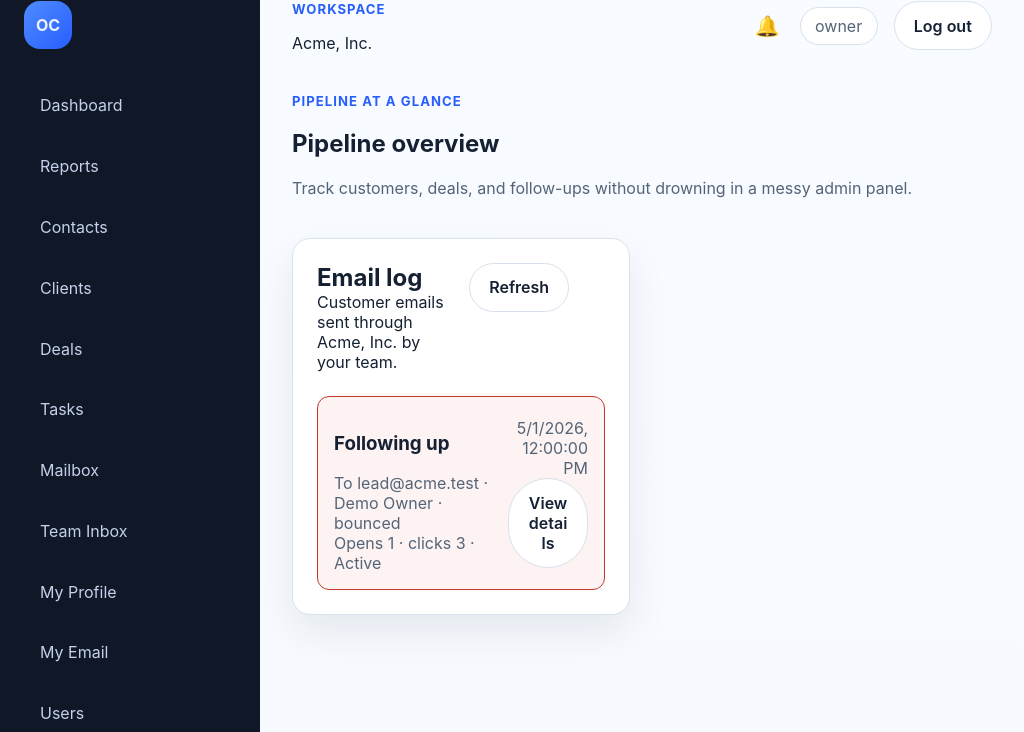
it: settings email log route › shows org-wide sent emails for an admin
The image size is (1024, 732).
Expected: the heading "Email log" is shown, [317,263,422,292]
Expected: the heading "Following up" is shown, [334,432,450,454]
Click the button "View details".
click(548, 523)  # box [508,478,588,568]
(page scrolled)
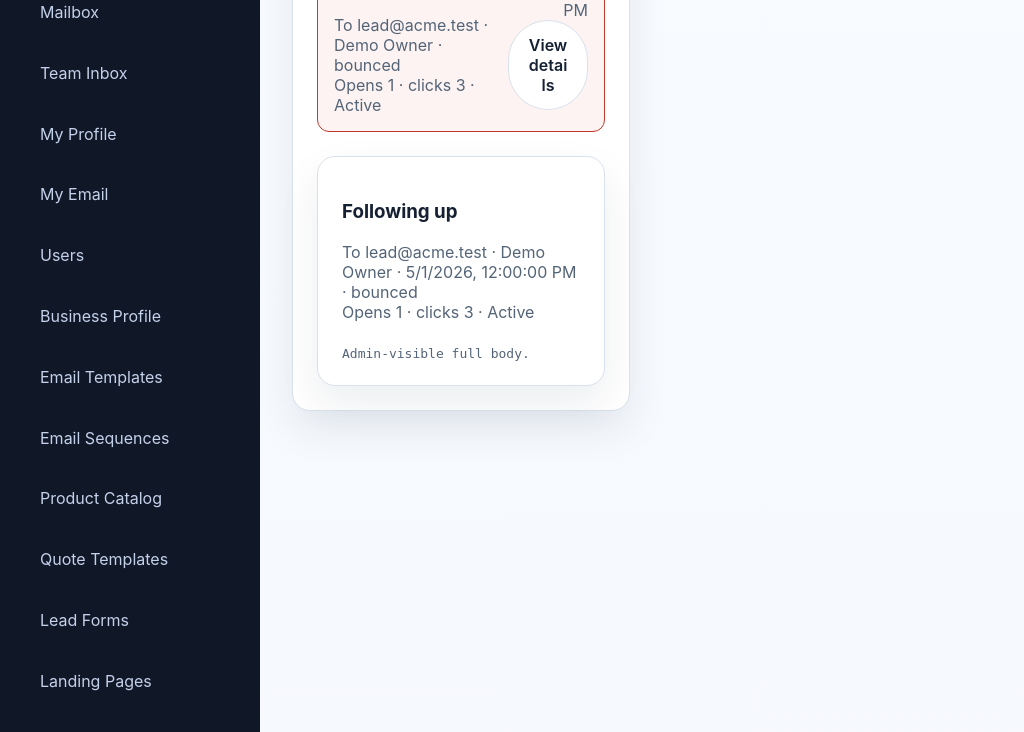
Result: the text "Admin-visible full body." is shown at [342,346,530,361]
